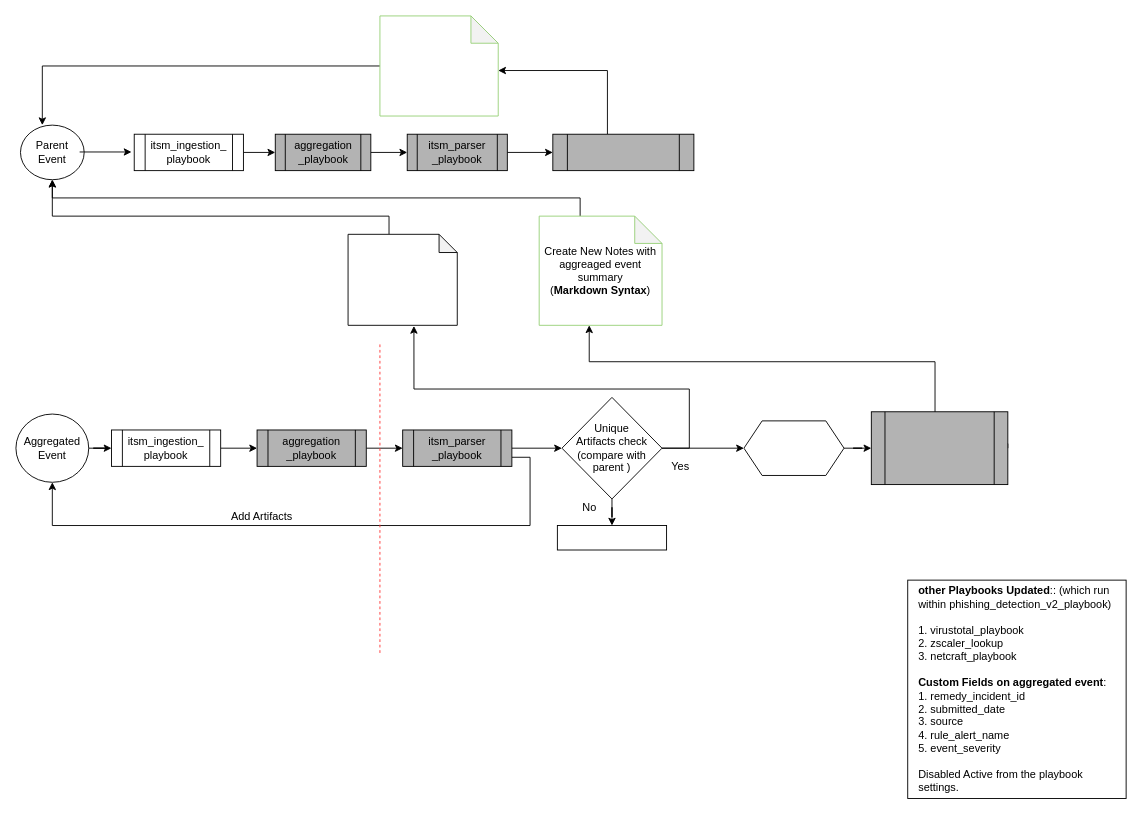
Some shapes in this 1142 by 814 pixel diagram are drawn without their labels. Each missing label, with the centre of its shape:
Add New Notes ( Markdown Syntax ): (438,65)
Add Unique (url/filehash) Artifacts to parent: (402,279)
Add unique tag to Artifacts: (793,447)
End: (611,537)
phishing_detection_ v2_playbook: (623,152)
phishing_detection_ v2_playbook on 'Unique' tagged artifacts: (939,448)
